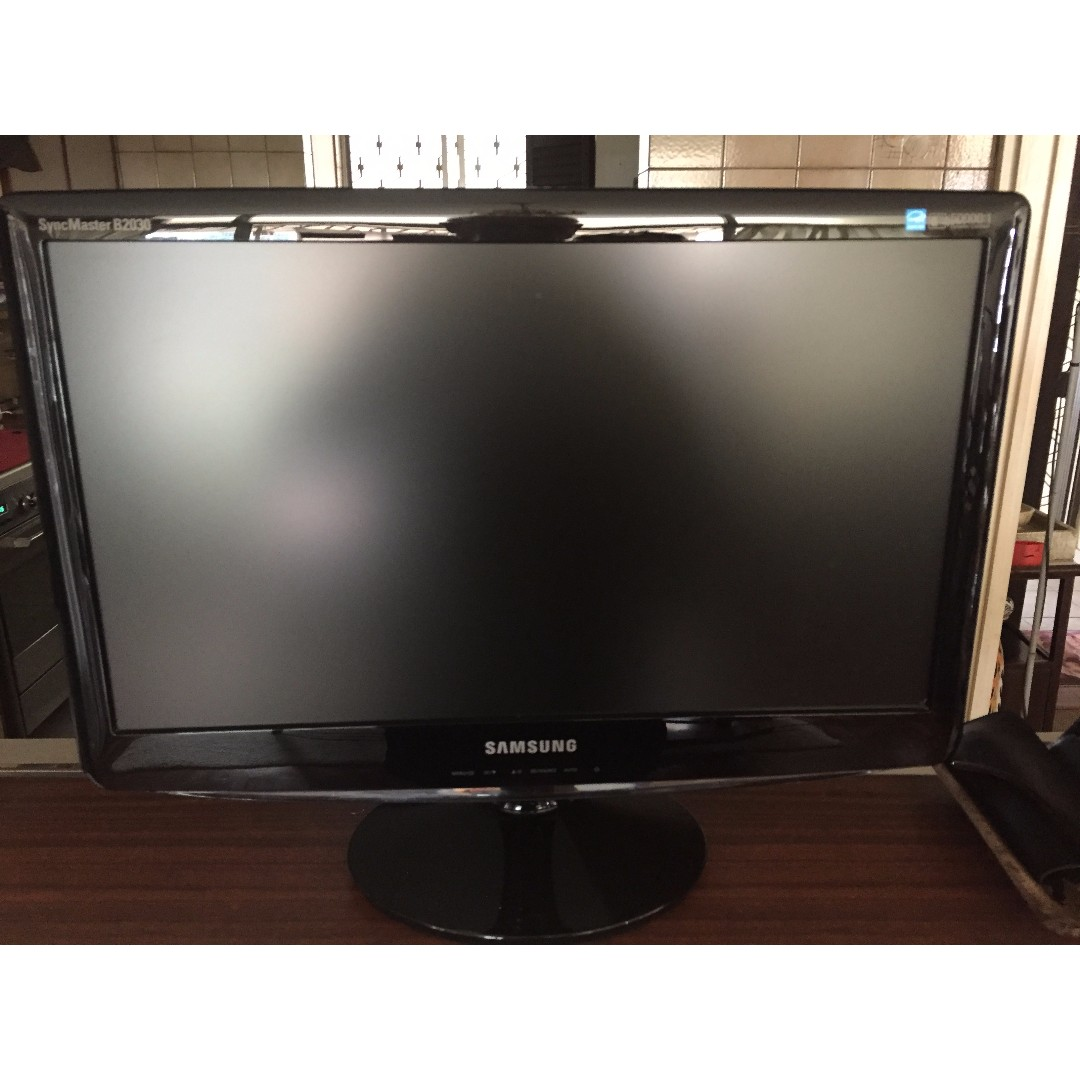samsung-monitor-b2030: (1, 189, 1043, 951)
